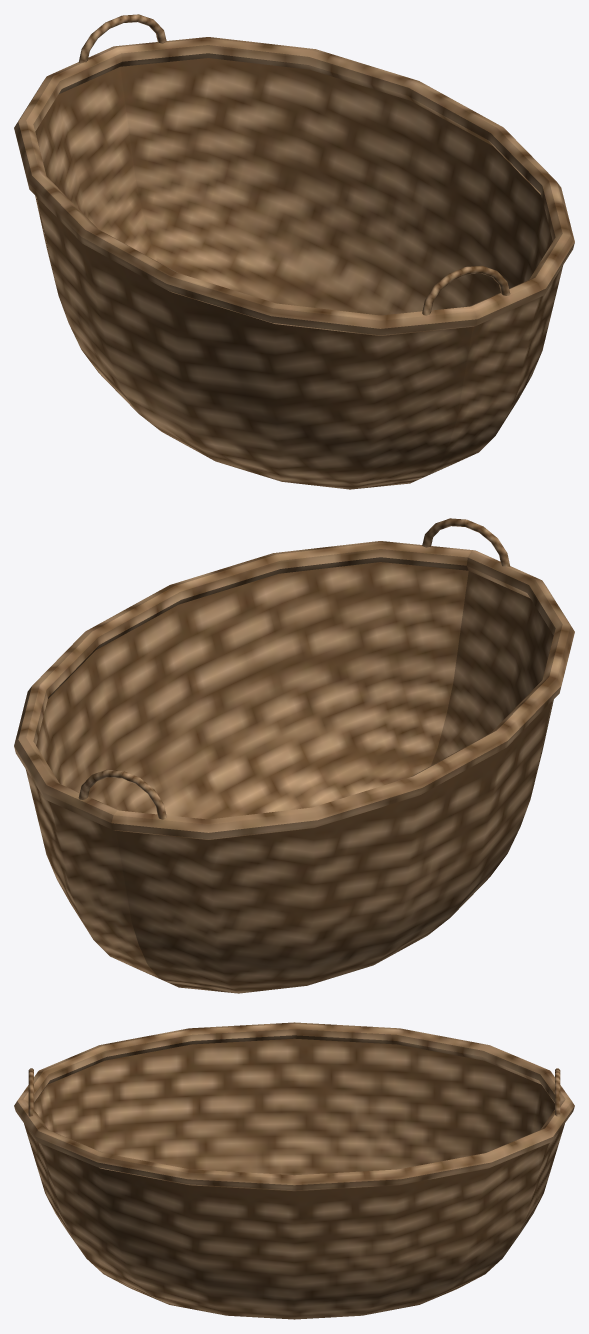
Rendered from Basket_Geo.fbx.
The picture shows the model from 3 angles, top to bottom: view 1: azimuth 30°, elevation 25°; view 2: azimuth 150°, elevation 25°; view 3: azimuth 270°, elevation 25°; orthographic projection. The views are drawn at different scales.
Visible parts, largest first — view 1: Basket_Geo; view 2: Basket_Geo; view 3: Basket_Geo.
Boxes of the visible parts, x1,y1,x2,y2 form: Basket_Geo: (14, 14, 574, 489); Basket_Geo: (14, 518, 574, 993); Basket_Geo: (14, 1022, 574, 1319).
Size of the model in its own units: 42.49 by 24.5 by 63.17.
